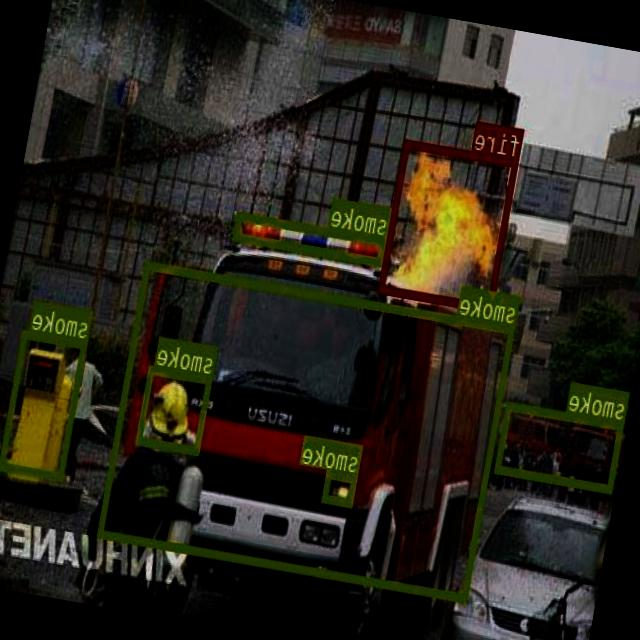fire: (380, 138, 520, 312)
smoke: (98, 260, 516, 600), (0, 328, 88, 479), (495, 401, 625, 492), (233, 210, 388, 264), (136, 363, 214, 454), (322, 469, 359, 506)
